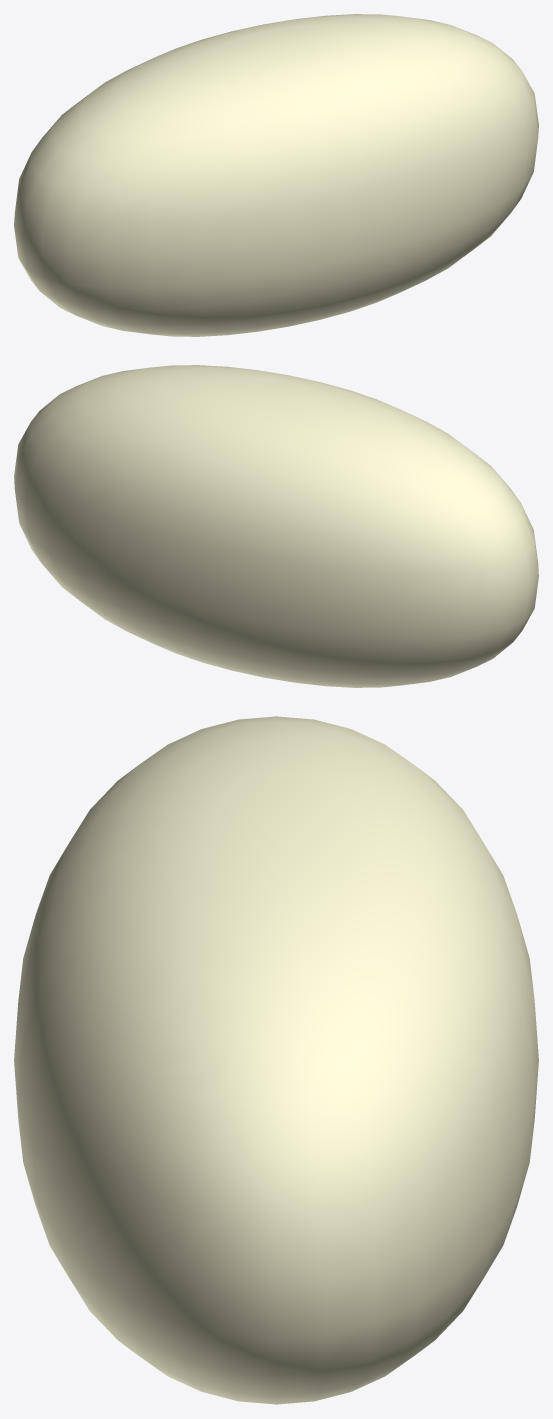
The picture shows the model from 3 angles, top to bottom: view 1: azimuth 30°, elevation 25°; view 2: azimuth 150°, elevation 25°; view 3: azimuth 270°, elevation 25°; orthographic projection. The views are drawn at different scales.
Parts seen in each view (by area): view 1: item; view 2: item; view 3: item.
Part boxes in pixels (x1,y1,x2,y2): item: (14,14,538,336); item: (14,365,538,687); item: (14,716,538,1404).
Size of the model in its own units: 0.0171 by 0.00844 by 0.00844.
